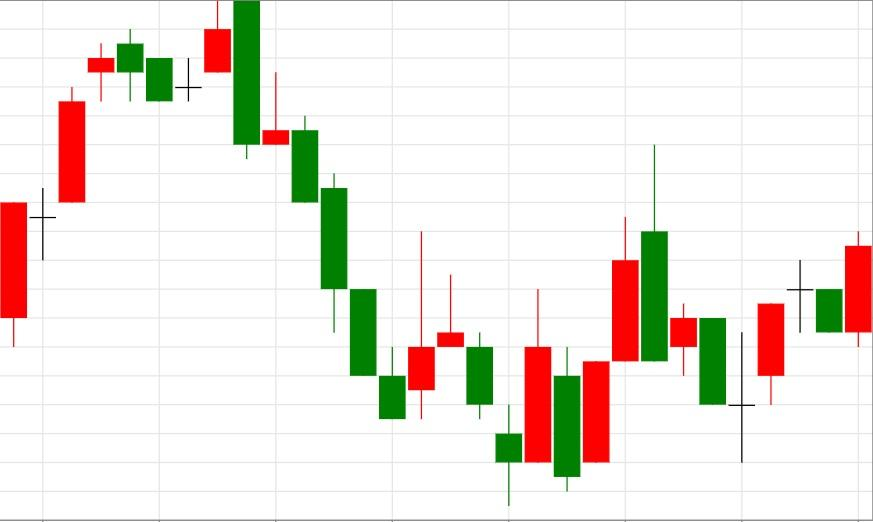bearish_engulfing_fall: (0, 0, 261, 347), (553, 145, 670, 492)
